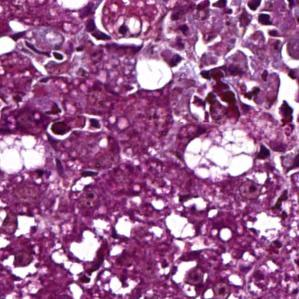ballooning: (183, 123, 259, 183), (0, 131, 49, 177)
